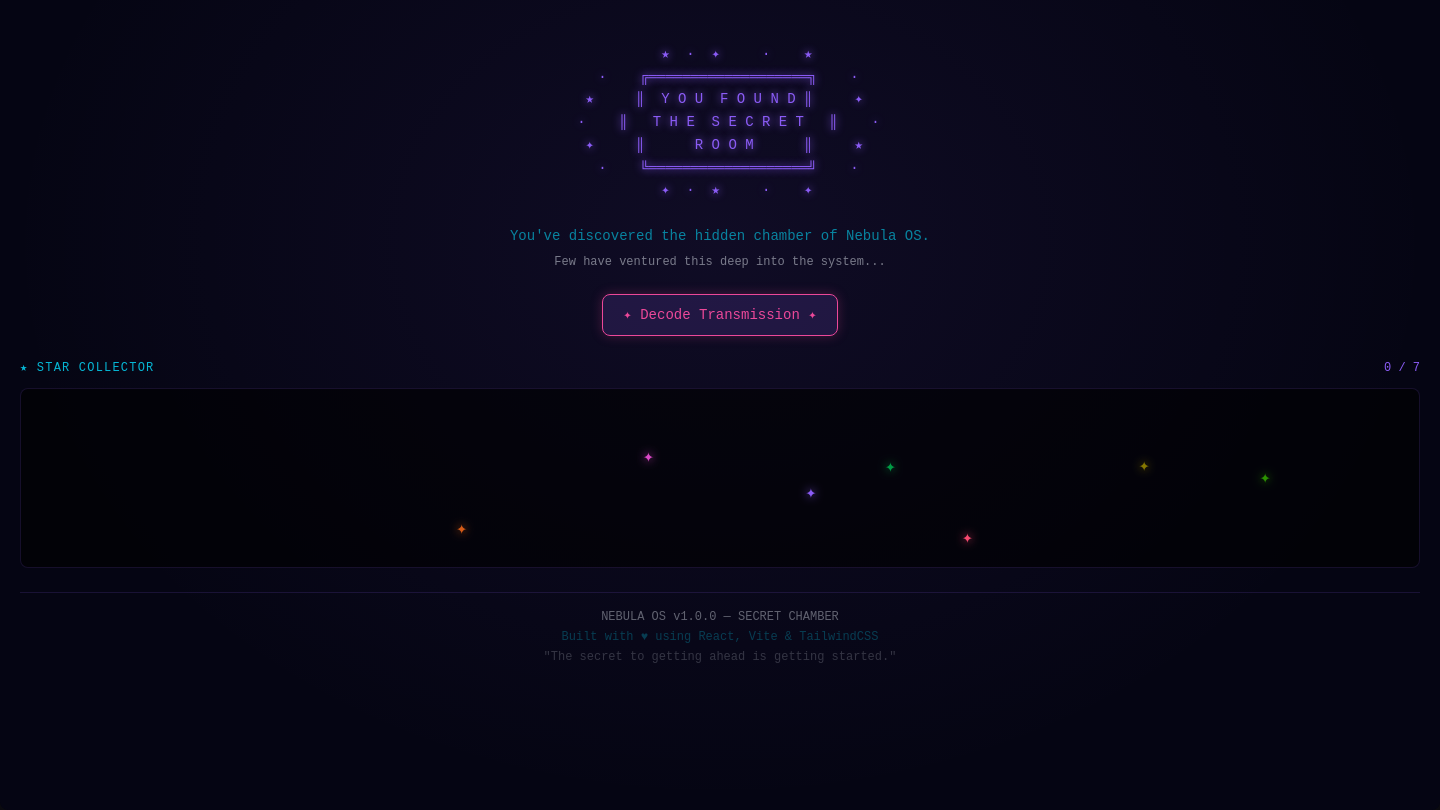
SecretRoom › allows collecting stars and updates the score
// Find a star button and click it
Step 1. Click the button named "Collect star 1" → x=811, y=493, box [806,479,816,507]
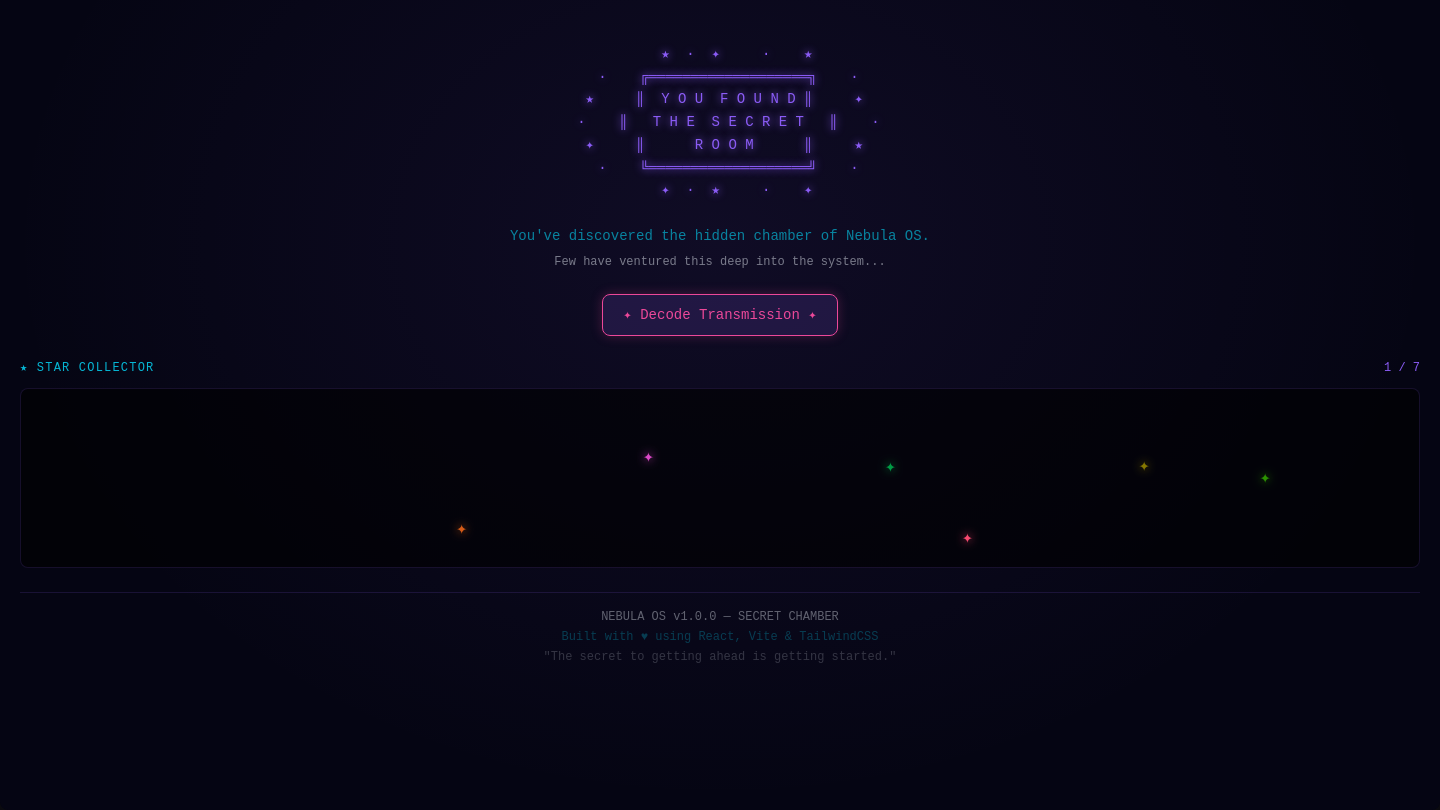
Result: the text "1 / 7" is shown at [1384,360,1420,376]
